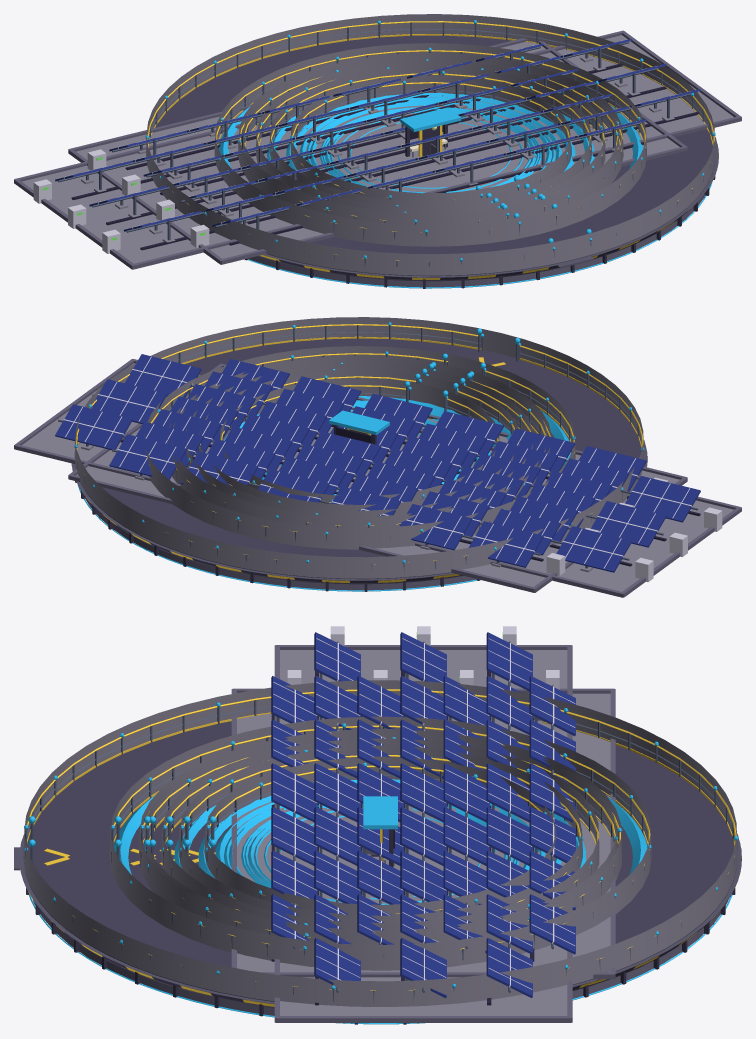
Rendered from fixtures.glb.
3 views of the same model, one above another, from view 1: azimuth 30°, elevation 25°; view 2: azimuth 150°, elevation 25°; view 3: azimuth 270°, elevation 25° (orthographic). The views are drawn at different scales.
Parts seen in each view (by area): view 1: fx_solar_4x6, fx_solar_3x8, fx_pad_course_21_0, fx_pad_deck_21_0, fx_pad_course_16_0, fx_pad_course_10_5, fx_pad_course_14_3, fx_pad_course_12_0, fx_pad_course_13_0, fx_pad_course_14_0, fx_pad_drum_21_0, fx_pad_deck_16_0 (+7 smaller); view 2: fx_solar_3x8, fx_solar_4x6, fx_pad_course_21_0, fx_pad_deck_21_0, fx_pad_course_16_0, fx_pad_course_14_3, fx_pad_course_12_0, fx_pad_course_13_0, fx_pad_course_10_5, fx_pad_course_14_0, fx_pad_drum_21_0, fx_pad_deck_16_0 (+4 smaller); view 3: fx_solar_3x8, fx_solar_4x6, fx_pad_deck_21_0, fx_pad_course_21_0, fx_pad_course_16_0, fx_pad_course_14_3, fx_pad_course_13_0, fx_pad_course_10_5, fx_pad_course_12_0, fx_pad_course_14_0, fx_pad_drum_21_0, fx_pad_deck_16_0 (+6 smaller).
Part boxes in pixels (x1=…): fx_solar_4x6: x1=68, y1=38, x2=687, y2=264; fx_solar_3x8: x1=14, y1=30, x2=741, y2=269; fx_pad_course_21_0: x1=146, y1=14, x2=715, y2=275; fx_pad_deck_21_0: x1=145, y1=20, x2=718, y2=288; fx_pad_course_16_0: x1=214, y1=43, x2=646, y2=246; fx_pad_course_10_5: x1=290, y1=75, x2=570, y2=201; fx_pad_course_14_3: x1=238, y1=53, x2=623, y2=225; fx_pad_course_12_0: x1=269, y1=66, x2=591, y2=207; fx_pad_course_13_0: x1=256, y1=60, x2=605, y2=213; fx_pad_course_14_0: x1=242, y1=55, x2=619, y2=215; fx_pad_drum_21_0: x1=244, y1=176, x2=715, y2=288; fx_pad_deck_16_0: x1=215, y1=47, x2=646, y2=240; fx_solar_3x8: x1=14, y1=354, x2=741, y2=597; fx_solar_4x6: x1=68, y1=359, x2=687, y2=592; fx_pad_course_21_0: x1=74, y1=317, x2=643, y2=578; fx_pad_deck_21_0: x1=71, y1=322, x2=647, y2=591; fx_pad_course_16_0: x1=144, y1=346, x2=575, y2=549; fx_pad_course_14_3: x1=167, y1=356, x2=551, y2=528; fx_pad_course_12_0: x1=198, y1=369, x2=519, y2=510; fx_pad_course_13_0: x1=186, y1=363, x2=533, y2=516; fx_pad_course_10_5: x1=220, y1=378, x2=499, y2=502; fx_pad_course_14_0: x1=171, y1=358, x2=547, y2=518; fx_pad_drum_21_0: x1=75, y1=481, x2=480, y2=591; fx_pad_deck_16_0: x1=149, y1=351, x2=575, y2=541; fx_solar_3x8: x1=274, y1=626, x2=572, y2=1022; fx_solar_4x6: x1=231, y1=670, x2=615, y2=979; fx_pad_deck_21_0: x1=14, y1=689, x2=741, y2=1024; fx_pad_course_21_0: x1=23, y1=680, x2=737, y2=1006; fx_pad_course_16_0: x1=109, y1=716, x2=651, y2=970; fx_pad_course_14_3: x1=138, y1=729, x2=621, y2=944; fx_pad_course_13_0: x1=161, y1=738, x2=599, y2=930; fx_pad_course_10_5: x1=204, y1=756, x2=556, y2=915; fx_pad_course_12_0: x1=178, y1=745, x2=582, y2=922; fx_pad_course_14_0: x1=144, y1=731, x2=616, y2=932; fx_pad_drum_21_0: x1=26, y1=888, x2=735, y2=1024; fx_pad_deck_16_0: x1=110, y1=723, x2=651, y2=960.
Bounding box in the file's own units: 51.5 × 4.08 × 42.29.
